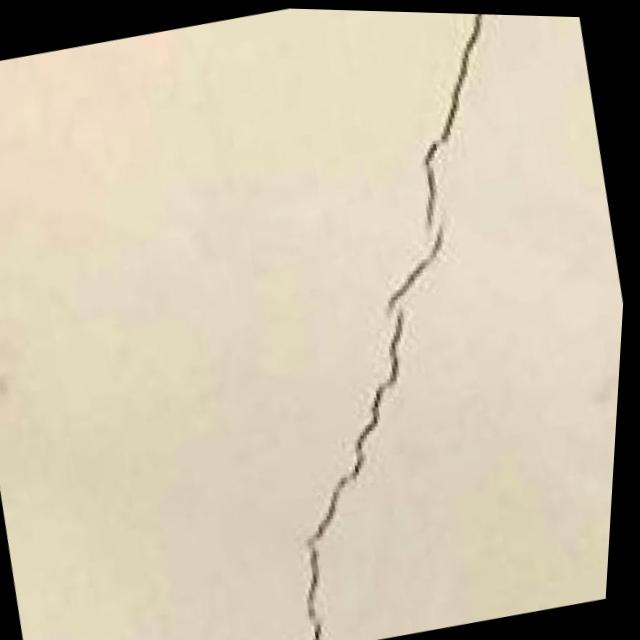Crack: (172, 5, 640, 640)
